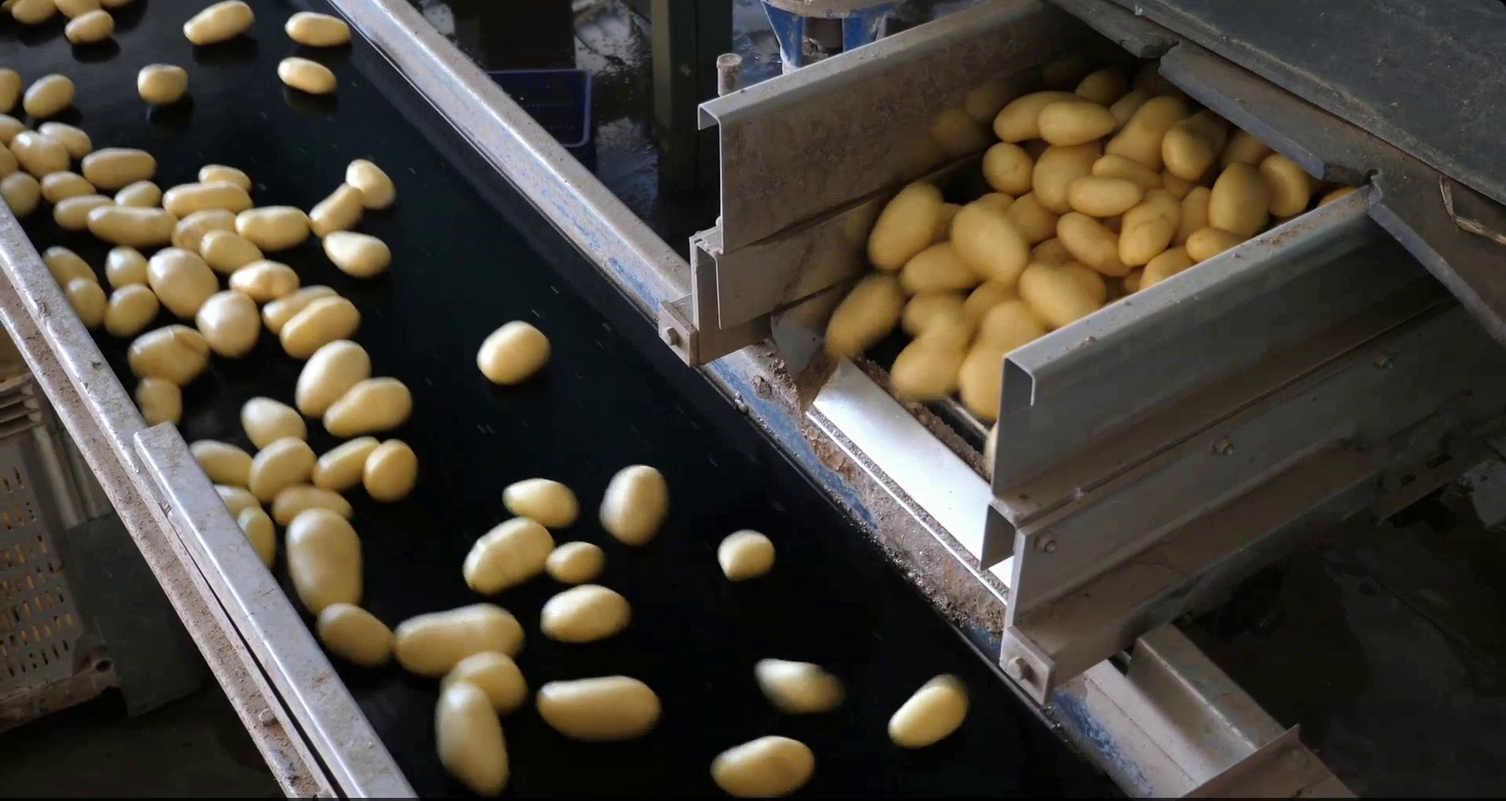potato: (427, 675, 517, 798), (387, 600, 528, 678), (814, 266, 915, 369), (282, 502, 368, 618), (532, 671, 664, 743), (884, 666, 975, 760), (458, 512, 558, 596), (944, 195, 1033, 288), (705, 731, 820, 800), (289, 334, 377, 421), (864, 176, 945, 270), (595, 458, 674, 551), (1099, 92, 1196, 166), (886, 325, 976, 404), (533, 580, 638, 647), (434, 645, 532, 716), (1028, 136, 1111, 218), (990, 85, 1101, 146), (318, 372, 416, 441), (1012, 258, 1102, 333), (955, 334, 1029, 424), (748, 651, 847, 718), (122, 321, 216, 391), (275, 293, 366, 364), (1158, 105, 1239, 184), (142, 243, 222, 322), (474, 317, 557, 392), (1112, 185, 1187, 268), (241, 433, 323, 507), (1052, 209, 1135, 281), (1203, 157, 1272, 243), (186, 285, 264, 361), (314, 600, 399, 669), (892, 237, 984, 297), (306, 431, 390, 495), (258, 280, 344, 339), (356, 434, 425, 504), (978, 295, 1048, 363), (499, 475, 581, 533), (235, 391, 310, 454), (267, 480, 358, 531), (230, 201, 313, 256), (159, 176, 254, 223), (1031, 96, 1122, 145), (84, 201, 180, 247), (319, 223, 395, 281), (1256, 146, 1315, 219), (710, 524, 781, 584), (184, 434, 257, 491), (1063, 171, 1148, 219), (78, 143, 161, 192), (224, 254, 302, 306), (173, 2, 259, 49), (1004, 186, 1068, 248), (167, 204, 243, 256), (194, 226, 268, 278), (961, 272, 1024, 333), (6, 125, 74, 181), (304, 180, 366, 241), (900, 284, 971, 337), (1133, 240, 1202, 294), (99, 280, 161, 339), (540, 537, 609, 588), (129, 372, 186, 433), (280, 7, 358, 51), (16, 69, 82, 121), (342, 153, 398, 214), (1171, 180, 1217, 252), (978, 139, 1037, 194), (131, 60, 193, 112), (39, 243, 102, 294), (1088, 148, 1164, 190), (1053, 251, 1111, 306), (232, 503, 278, 572), (918, 303, 981, 351), (271, 56, 342, 98), (1183, 225, 1254, 267), (1213, 123, 1269, 176), (60, 274, 109, 332), (193, 154, 254, 199), (52, 190, 114, 234), (34, 117, 96, 161), (101, 241, 151, 295), (60, 5, 118, 50), (210, 480, 264, 524), (38, 168, 102, 205), (1, 165, 44, 219), (977, 411, 1008, 484), (1105, 84, 1155, 129), (1307, 178, 1366, 210), (110, 177, 164, 210), (1026, 232, 1080, 264), (935, 194, 966, 243), (972, 185, 1019, 216), (1151, 165, 1189, 202), (1, 60, 24, 121), (1, 111, 34, 151), (9, 2, 60, 23), (1, 138, 22, 187), (1118, 264, 1146, 298), (49, 1, 104, 17), (98, 2, 132, 9)
